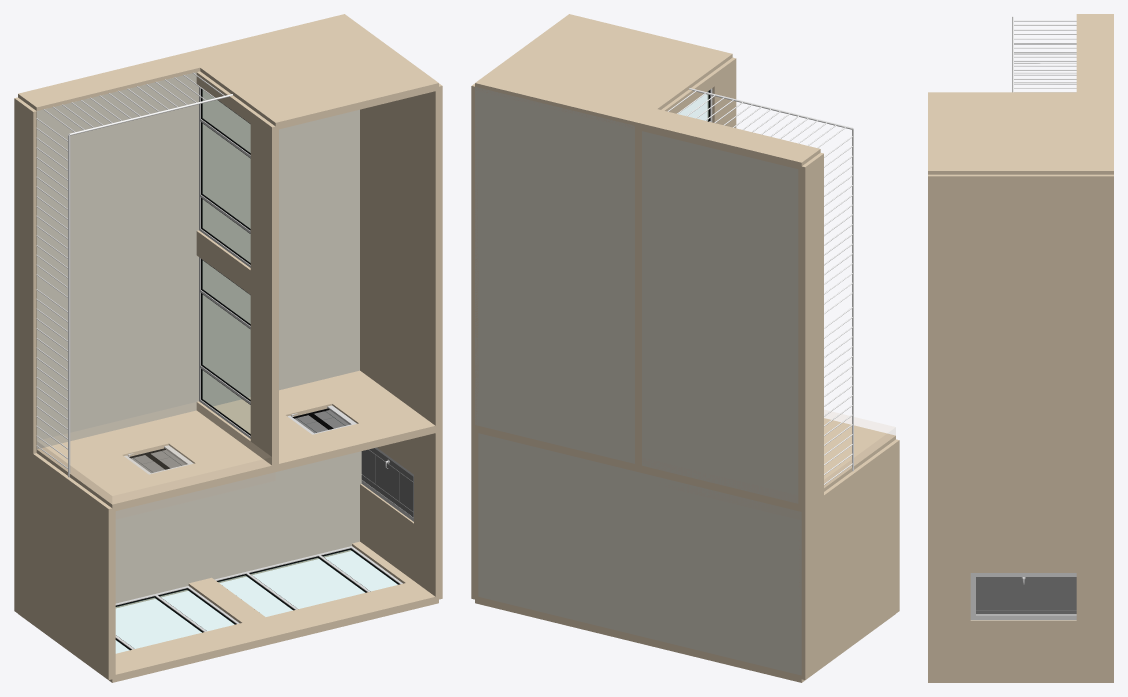
Rendered from 1_patrick_ceilingless.gltf.
The picture shows the model from 3 angles, left to right: view 1: azimuth 30°, elevation 25°; view 2: azimuth 150°, elevation 25°; view 3: azimuth 270°, elevation 25°; orthographic projection.
Parts seen in each view (by area): view 1: floor_3, floor_2, floor_4, wall, wall_3, mesh_0, floor, wall_1, floor_5, wall_2, SIP_4, floor_1 (+28 smaller); view 2: floor_5, floor_1, floor_4, floor, floor_3, floor_2, wall, wall_3, SIP_6, SIP_5, SIP_7, SIP (+13 smaller); view 3: wall_2, wall_1, SIP_4, wall_3, Door, SIP_7, Railing_5, DoorFrame, Railing_4, SIP_3.
Boxes of the visible parts, left/top/right/bottom form: floor_3: left=36, top=72, right=198, bottom=281; floor_2: left=36, top=243, right=198, bottom=449; floor_4: left=202, top=203, right=359, bottom=406; wall: left=14, top=440, right=115, bottom=679; wall_3: left=181, top=14, right=438, bottom=129; mesh_0: left=37, top=402, right=274, bottom=518; floor: left=200, top=451, right=361, bottom=580; wall_1: left=360, top=203, right=442, bottom=428; floor_5: left=202, top=90, right=359, bottom=237; wall_2: left=360, top=83, right=442, bottom=258; SIP_4: left=360, top=428, right=442, bottom=599; floor_1: left=115, top=490, right=200, bottom=603; floor_5: left=475, top=87, right=634, bottom=296; floor_1: left=638, top=472, right=801, bottom=675; floor_4: left=475, top=257, right=634, bottom=463; floor: left=478, top=433, right=638, bottom=635; floor_3: left=642, top=131, right=798, bottom=336; floor_2: left=642, top=298, right=798, bottom=503; wall: left=799, top=439, right=899, bottom=679; wall_3: left=475, top=14, right=732, bottom=128; SIP_6: left=798, top=152, right=823, bottom=337; SIP_5: left=798, top=325, right=823, bottom=508; SIP_7: left=638, top=109, right=820, bottom=169; SIP: left=638, top=418, right=895, bottom=511; wall_2: left=928, top=174, right=1113, bottom=344; wall_1: left=928, top=344, right=1113, bottom=512; SIP_4: left=928, top=512, right=1113, bottom=680; wall_3: left=928, top=92, right=1113, bottom=174; Door: left=976, top=577, right=1076, bottom=614; SIP_7: left=1076, top=14, right=1113, bottom=92; Railing_5: left=1012, top=16, right=1076, bottom=92; DoorFrame: left=970, top=573, right=1076, bottom=620; Railing_4: left=1014, top=24, right=1076, bottom=92; SIP_3: left=928, top=681, right=1113, bottom=682.
Bounding box in the file's own units: 7.15 × 10.65 × 3.5.
